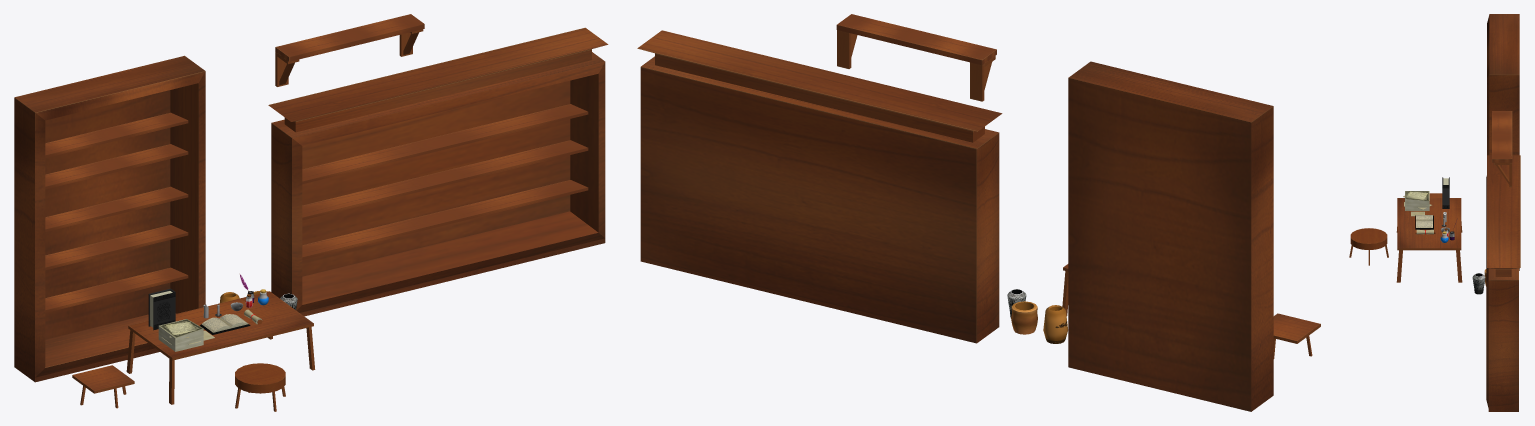
File: Library.FBX
3 renders of one model, left to right at view 1: azimuth 30°, elevation 25°; view 2: azimuth 150°, elevation 25°; view 3: azimuth 270°, elevation 25°, orthographic. The views are drawn at different scales.
Visible parts, largest first — view 1: bookcase002, bookcase, Table, bookcaseTable006, bookcaseTable005, bookcaseTable007, Table2, bookcaseTable002, bookcaseTable003, bookcaseTable004, bookcaseTable, bookcaseTable001 (+4 smaller); view 2: bookcase002, bookcase, Table2, Chair02, Vase, Vase02; view 3: bookcase002, bookcase, Table, Table2, chair, Papers, Book, Vase03.
Boxes of the visible parts, x1,y1,x2,y2 form: bookcase002: [268, 27, 608, 316]; bookcase: [14, 55, 205, 382]; Table: [128, 291, 313, 360]; bookcaseTable006: [302, 140, 588, 220]; bookcaseTable005: [302, 180, 588, 259]; bookcaseTable007: [302, 104, 588, 184]; Table2: [275, 14, 424, 61]; bookcaseTable002: [45, 144, 188, 189]; bookcaseTable003: [45, 186, 188, 231]; bookcaseTable004: [45, 112, 188, 157]; bookcaseTable: [45, 267, 188, 312]; bookcaseTable001: [45, 225, 188, 270]; bookcase002: [637, 30, 1002, 343]; bookcase: [1068, 61, 1273, 411]; Table2: [836, 14, 996, 65]; Chair02: [1273, 313, 1320, 343]; Vase: [1043, 305, 1067, 343]; Vase02: [1011, 301, 1037, 334]; bookcase002: [1486, 155, 1520, 411]; bookcase: [1487, 14, 1519, 270]; Table: [1397, 198, 1461, 250]; Table2: [1492, 111, 1512, 162]; chair: [1350, 228, 1387, 249]; Papers: [1405, 191, 1429, 210]; Book: [1442, 177, 1449, 208]; Vase03: [1472, 273, 1485, 294].
Size of the model in its own units: 67.72 by 30.53 by 24.15.
